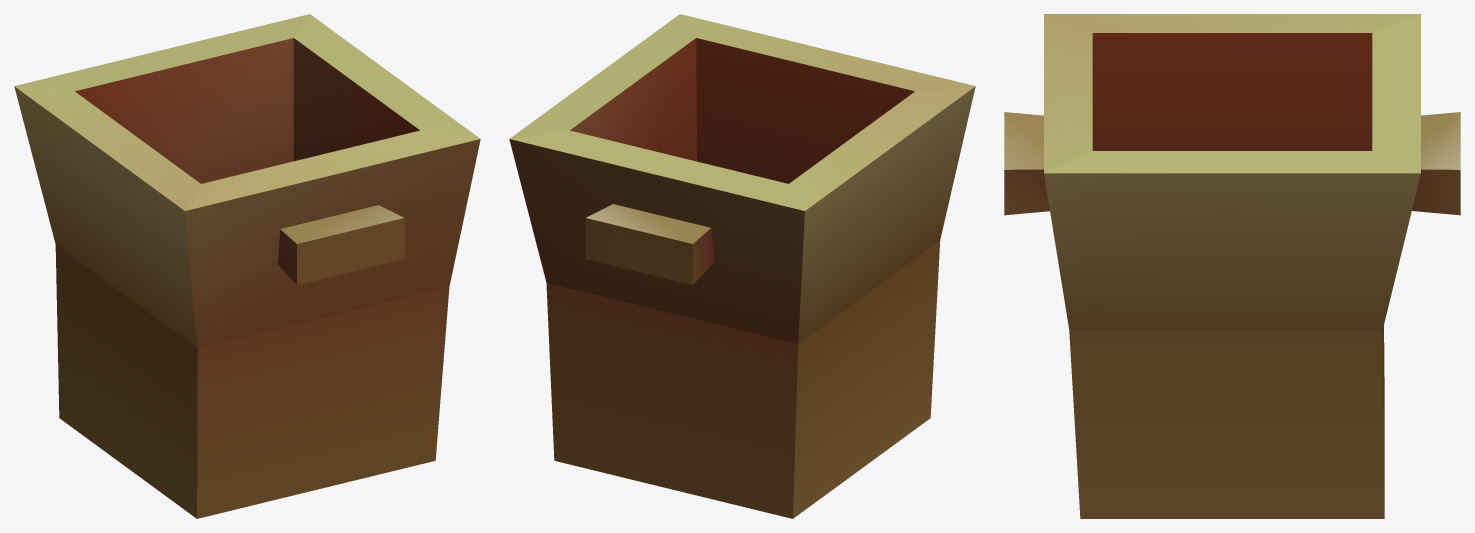
Rendered from bucked.fbx.
The picture shows the model from 3 angles, left to right: view 1: azimuth 30°, elevation 25°; view 2: azimuth 150°, elevation 25°; view 3: azimuth 270°, elevation 25°; orthographic projection. The views are drawn at different scales.
Parts seen in each view (by area): view 1: wine_box.001; view 2: wine_box.001; view 3: wine_box.001.
Boxes of the visible parts, x1,y1,x2,y2 form: wine_box.001: [14, 14, 480, 518]; wine_box.001: [509, 14, 975, 518]; wine_box.001: [1004, 14, 1460, 518].
Bounding box in the file's own units: 18.04 × 19.15 × 21.83.
